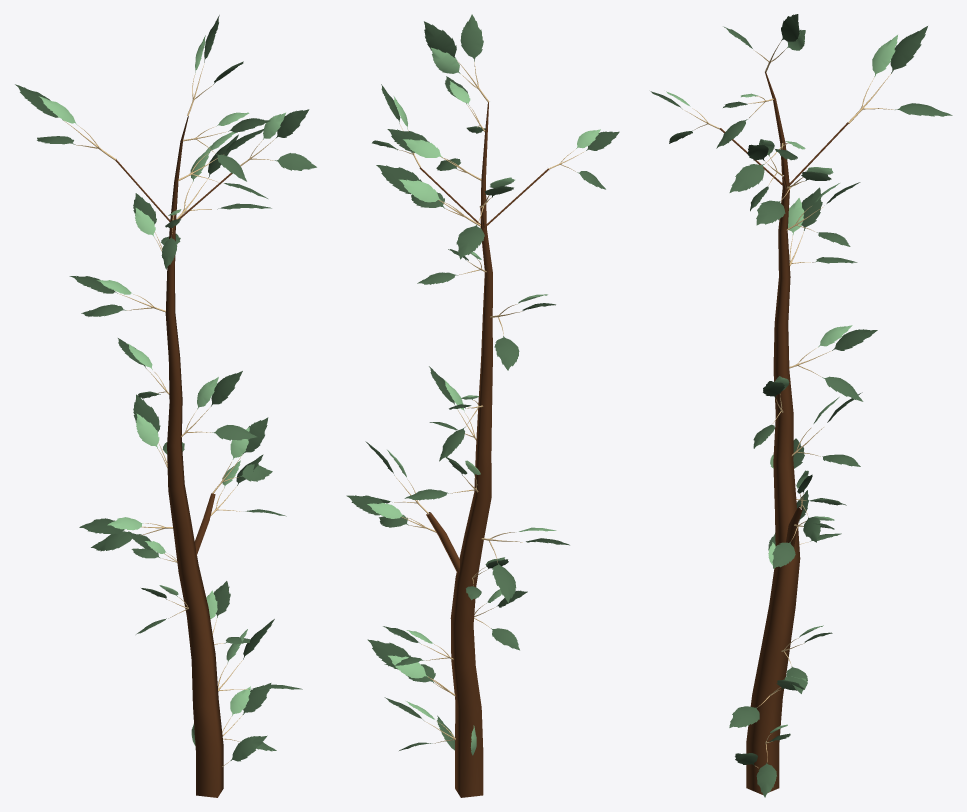
The model's file is Tree19.fbx.
3 views of the same model, side by side, from view 1: azimuth 30°, elevation 25°; view 2: azimuth 150°, elevation 25°; view 3: azimuth 270°, elevation 25° (orthographic). The views are drawn at different scales.
Parts seen in each view (by area): view 1: Árbol.002, Hojas|tree|Dupli|18, Hojas|tree|Dupli|15, Hojas|tree|Dupli|17, Hojas|tree|Dupli|5, Hojas|tree|Dupli|11, Hojas|tree|Dupli|, Hojas|tree|Dupli|14, Hojas|tree|Dupli|3, Hojas|tree|Dupli|2, Hojas|tree|Dupli|13, Hojas|tree|Dupli|20 (+8 smaller); view 2: Árbol.002, Hojas|tree|Dupli|7, Hojas|tree|Dupli|2, Hojas|tree|Dupli|16, Hojas|tree|Dupli|19, Hojas|tree|Dupli|4, Hojas|tree|Dupli|5, Hojas|tree|Dupli|17, Hojas|tree|Dupli|1, Hojas|tree|Dupli|, Hojas|tree|Dupli|9, Hojas|tree|Dupli|14 (+5 smaller); view 3: Árbol.002, Hojas|tree|Dupli|5, Hojas|tree|Dupli|10, Hojas|tree|Dupli|, Hojas|tree|Dupli|2, Hojas|tree|Dupli|19, Hojas|tree|Dupli|7, Hojas|tree|Dupli|16, Hojas|tree|Dupli|18, Hojas|tree|Dupli|13, Hojas|tree|Dupli|15, Hojas|tree|Dupli|4 (+5 smaller).
Boxes of the visible parts, <box> form: Árbol.002: <box>115,116,231,797</box>; Hojas|tree|Dupli|18: <box>181,371,256,440</box>; Hojas|tree|Dupli|15: <box>240,109,316,170</box>; Hojas|tree|Dupli|17: <box>79,517,172,551</box>; Hojas|tree|Dupli|5: <box>15,84,115,160</box>; Hojas|tree|Dupli|11: <box>212,417,272,493</box>; Hojas|tree|Dupli|: <box>69,276,165,316</box>; Hojas|tree|Dupli|14: <box>133,394,184,467</box>; Hojas|tree|Dupli|3: <box>183,112,270,181</box>; Hojas|tree|Dupli|2: <box>176,134,271,219</box>; Hojas|tree|Dupli|13: <box>222,683,276,751</box>; Hojas|tree|Dupli|20: <box>133,193,180,251</box>; Árbol.002: <box>419,102,548,797</box>; Hojas|tree|Dupli|7: <box>424,14,489,102</box>; Hojas|tree|Dupli|2: <box>376,165,480,226</box>; Hojas|tree|Dupli|16: <box>367,639,455,696</box>; Hojas|tree|Dupli|19: <box>387,129,481,180</box>; Hojas|tree|Dupli|4: <box>346,495,436,532</box>; Hojas|tree|Dupli|5: <box>456,177,514,259</box>; Hojas|tree|Dupli|17: <box>481,527,569,602</box>; Hojas|tree|Dupli|1: <box>548,129,619,189</box>; Hojas|tree|Dupli|: <box>490,294,555,370</box>; Hojas|tree|Dupli|9: <box>474,589,527,650</box>; Hojas|tree|Dupli|14: <box>404,457,480,500</box>; Árbol.002: <box>720,72,848,794</box>; Hojas|tree|Dupli|5: <box>848,26,952,123</box>; Hojas|tree|Dupli|10: <box>789,325,877,401</box>; Hojas|tree|Dupli|: <box>788,187,857,265</box>; Hojas|tree|Dupli|2: <box>756,167,833,225</box>; Hojas|tree|Dupli|19: <box>729,141,805,192</box>; Hojas|tree|Dupli|7: <box>723,14,805,71</box>; Hojas|tree|Dupli|16: <box>729,676,807,727</box>; Hojas|tree|Dupli|18: <box>753,376,789,448</box>; Hojas|tree|Dupli|13: <box>756,724,790,797</box>; Hojas|tree|Dupli|15: <box>747,139,783,211</box>; Hojas|tree|Dupli|4: <box>772,516,834,568</box>.
Bounding box in the file's own units: 173 × 577 × 202.
